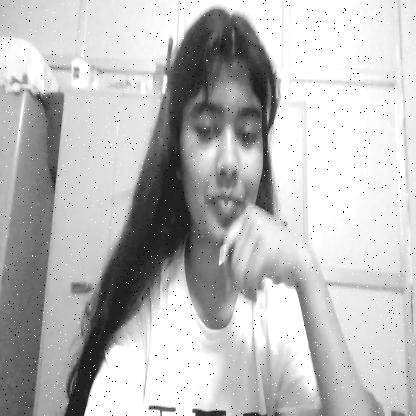Normal: (166, 16, 273, 234)
